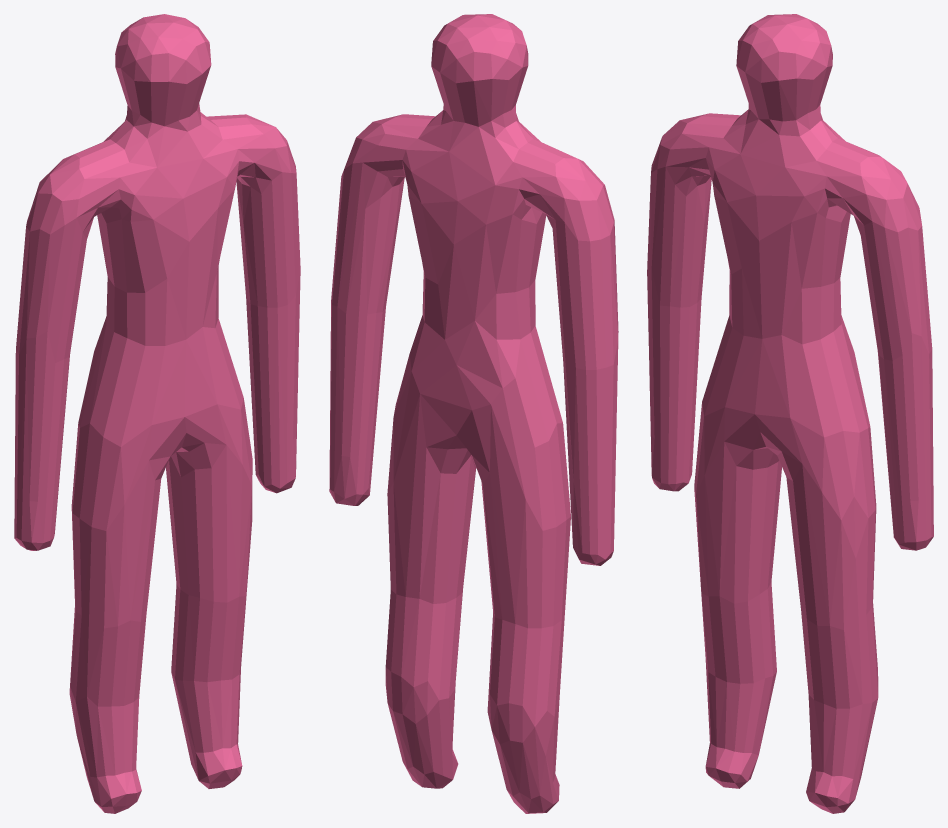
Rendered from personaje_v0.1.glb.
The picture shows the model from 3 angles, left to right: view 1: azimuth 30°, elevation 25°; view 2: azimuth 150°, elevation 25°; view 3: azimuth 330°, elevation 25°; orthographic projection.
Parts seen in each view (by area): view 1: PersonajeLowPoly; view 2: PersonajeLowPoly; view 3: PersonajeLowPoly.
Boxes of the visible parts, x1,y1,x2,y2 form: PersonajeLowPoly: (14, 14, 300, 813); PersonajeLowPoly: (329, 14, 618, 813); PersonajeLowPoly: (647, 14, 933, 813).
Bounding box in the file's own units: 0.6257 × 1.68 × 0.2022.
